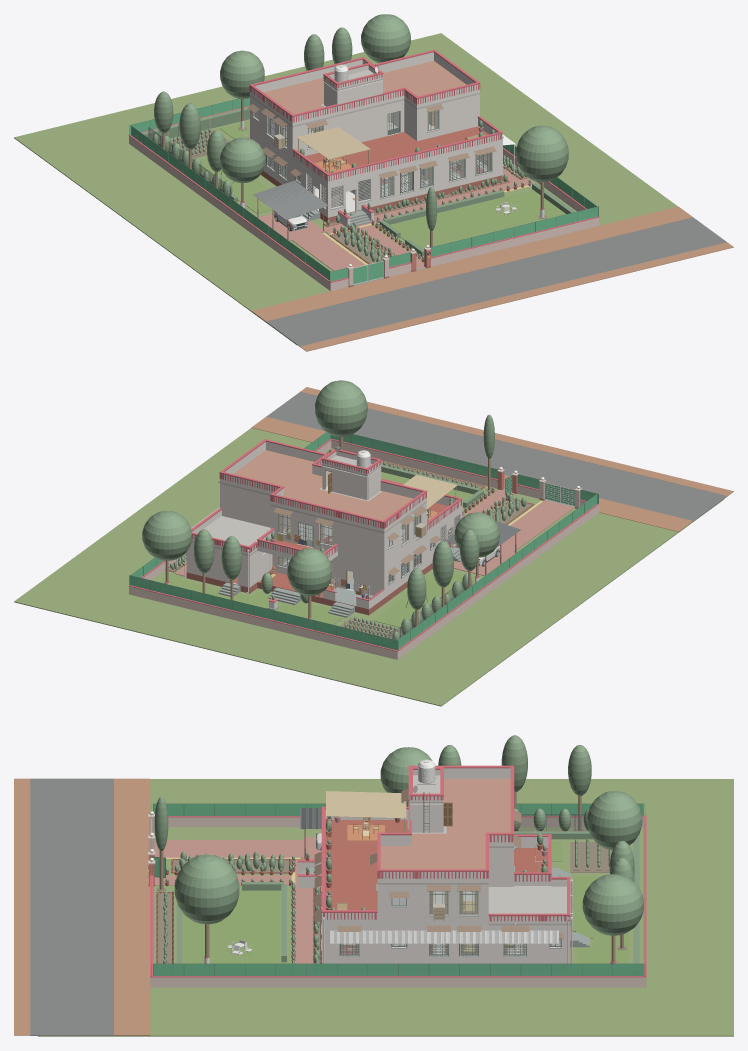
The picture shows the model from 3 angles, top to bottom: view 1: azimuth 30°, elevation 25°; view 2: azimuth 150°, elevation 25°; view 3: azimuth 270°, elevation 25°; orthographic projection. The views are drawn at different scales.
Visible parts, largest first — view 1: world, front-lawn, heritage-roof-terrace-tiles, f-front-terrace/floor, site-drive, heritage-boundary-left-3, heritage-carport, heritage-boundary-front-2, heritage-chick-pergola, west-lawn, wall-6df699f60805ec7019/0, site-front-walk (+7 smaller); view 2: world, heritage-roof-terrace-tiles, heritage-boundary-rear-5, site-drive, heritage-boundary-left-3, rear-lawn, wall-cc077cc4dc55d761d0/0, wall-ba27e498a6d3943433/0, heritage-boundary-front-2, west-lawn, heritage-roof-finish-0, heritage-plinth-band (+5 smaller); view 3: world, heritage-roof-terrace-tiles, heritage-boundary-right-4, front-lawn, f-front-terrace/floor, heritage-side-canopy, site-drive, rear-lawn, heritage-roof-finish-0, heritage-chick-pergola, heritage-boundary-left-3, site-front-walk (+13 smaller).
Boxes of the visible parts, <box> form: world: <box>14,14,733,351</box>; front-lawn: <box>390,190,565,249</box>; heritage-roof-terrace-tiles: <box>263,61,466,114</box>; f-front-terrace/floor: <box>305,126,488,166</box>; site-drive: <box>257,213,365,270</box>; heritage-boundary-left-3: <box>130,136,329,289</box>; heritage-carport: <box>253,180,328,219</box>; heritage-boundary-front-2: <box>431,217,599,266</box>; heritage-chick-pergola: <box>296,127,370,159</box>; west-lawn: <box>191,158,272,213</box>; wall-6df699f60805ec7019/0: <box>339,110,403,142</box>; site-front-walk: <box>321,178,534,233</box>; world: <box>14,380,733,706</box>; heritage-roof-terrace-tiles: <box>233,450,413,520</box>; heritage-boundary-rear-5: <box>129,586,398,659</box>; site-drive: <box>454,500,574,575</box>; heritage-boundary-left-3: <box>398,505,597,658</box>; rear-lawn: <box>159,572,342,624</box>; wall-cc077cc4dc55d761d0/0: <box>220,483,270,527</box>; wall-ba27e498a6d3943433/0: <box>338,522,382,564</box>; heritage-boundary-front-2: <box>331,440,497,488</box>; west-lawn: <box>372,572,474,627</box>; heritage-roof-finish-0: <box>197,516,270,545</box>; heritage-plinth-band: <box>186,545,458,615</box>; world: <box>14,735,733,1036</box>; heritage-roof-terrace-tiles: <box>380,779,510,869</box>; heritage-boundary-right-4: <box>153,977,643,987</box>; front-lawn: <box>183,891,280,963</box>; f-front-terrace/floor: <box>325,820,408,909</box>; heritage-side-canopy: <box>329,930,558,943</box>; site-drive: <box>154,837,321,859</box>; rear-lawn: <box>571,876,628,963</box>; heritage-roof-finish-0: <box>491,886,566,913</box>; heritage-chick-pergola: <box>326,791,406,818</box>; heritage-boundary-left-3: <box>168,817,643,827</box>; site-front-walk: <box>295,860,313,963</box>.
Size of the model in its own units: 48.48 by 12.38 by 57.52.
